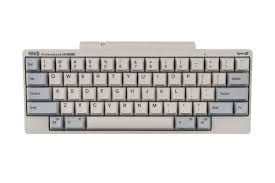keyboard: (8, 36, 262, 161)
